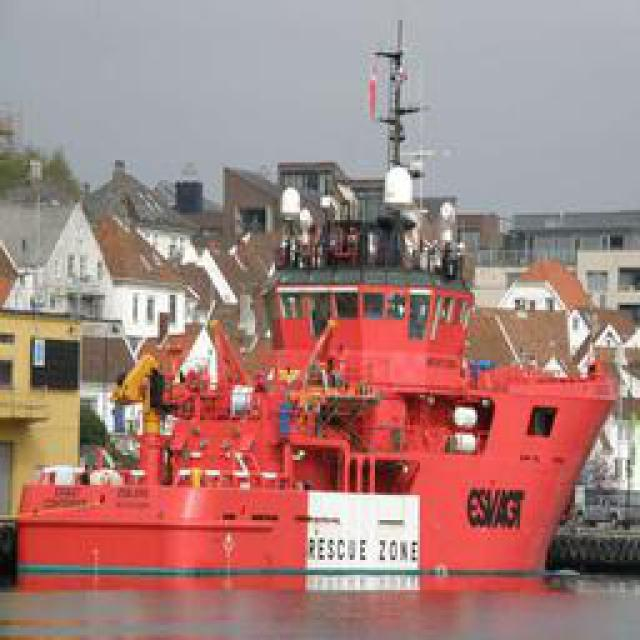Ship: (13, 183, 621, 598)
